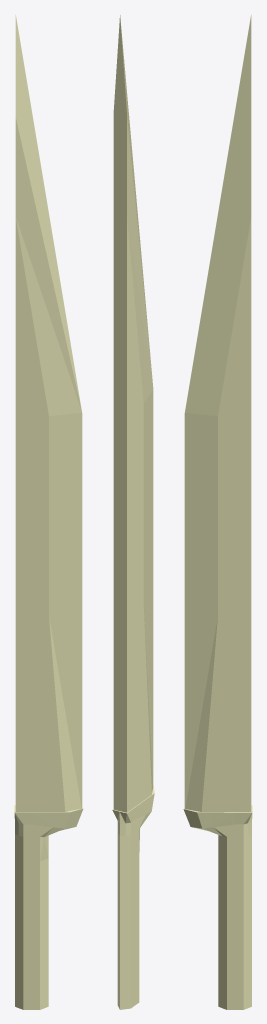
File: ken.obj
The picture shows the model from 3 angles, left to right: view 1: azimuth 90°, elevation 25°; view 2: azimuth 150°, elevation 25°; view 3: azimuth 270°, elevation 25°; orthographic projection.
Visible parts, largest first — view 1: 立方体.001; view 2: 立方体.001; view 3: 立方体.001.
Part boxes in pixels (<box>): 立方体.001: <box>14,15,83,1009</box>; 立方体.001: <box>112,15,154,1009</box>; 立方体.001: <box>183,15,252,1009</box>.
Size of the model in its own units: 0.0372 by 2.41 by 0.1518.
Materials: 1 (1 with a texture image).
